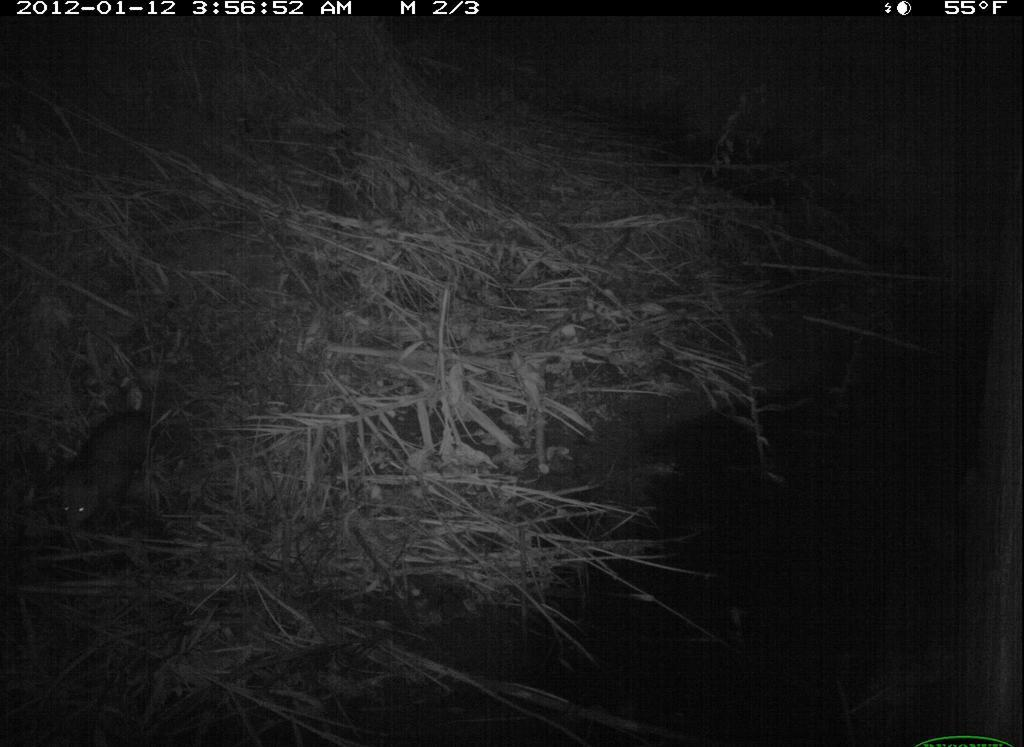opossum: (52, 402, 155, 540)
